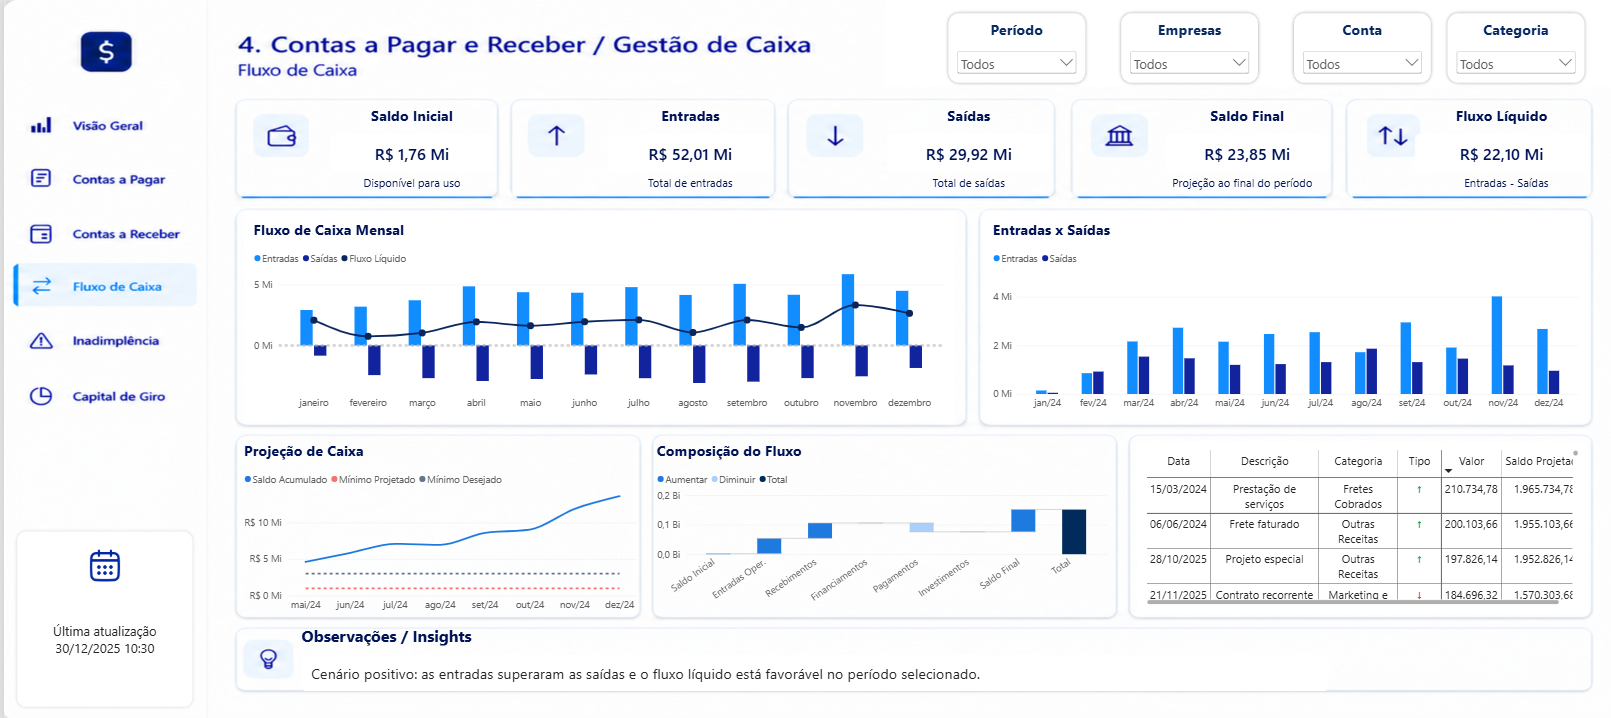

Layout of this report page (visuals, bound fields, positions):
{"tool":"powerbi","page":{"name":"Fluxo de Caixa","canvas":[2700,1200],"ordinal":3},"visuals":[{"type":"actionButton","box":[16,624,240,64],"z":0},{"type":"actionButton","box":[16,528,240,64],"z":1000},{"type":"actionButton","box":[16,352,240,64],"z":2000},{"type":"actionButton","box":[16,256,240,64],"z":3000},{"type":"actionButton","box":[16,160,240,64],"z":4000},{"type":"shape","box":[1468,0,1232,144],"z":5000},{"type":"shape","box":[1568,16,240,128],"z":6000},{"type":"shape","box":[1856,16,240,128],"z":7000},{"type":"shape","box":[2144,16,240,128],"z":8000},{"type":"shape","box":[2400,16,240,128],"z":9000},{"type":"textbox","box":[1616,32,144,48],"z":10000},{"type":"textbox","box":[2192,32,144,48],"z":11000},{"type":"textbox","box":[1904,32,144,48],"z":12000},{"type":"textbox","box":[2416,32,208,48],"z":13000},{"type":"slicer","fields":{"Values":["dCalendario.Mes_Ano_Eixo"]},"box":[1584,80,208,48],"z":14000},{"type":"slicer","fields":{"Values":["dEmpresas.Empresa"]},"box":[1872,80,208,48],"z":15000},{"type":"slicer","fields":{"Values":["dContasBancarias.Conta"]},"box":[2160,80,208,48],"z":16000},{"type":"slicer","fields":{"Values":["dCategorias.Categoria"]},"box":[2416,80,208,48],"z":17000},{"type":"cardVisual","title":"Saldo Inicial","fields":{"Data":["Medidas Fluxo de Caixa.Texto FC Saldo Inicial"]},"box":[544,176,272,112],"z":18000},{"type":"cardVisual","title":"Entradas","fields":{"Data":["Medidas Fluxo de Caixa.Texto FC Entradas"]},"box":[1008,176,272,112],"z":19000},{"type":"cardVisual","title":"Saídas","fields":{"Data":["Medidas Fluxo de Caixa.Texto FC Saídas"]},"box":[1472,176,272,112],"z":20000},{"type":"cardVisual","title":"Saldo Final","fields":{"Data":["Medidas Fluxo de Caixa.Texto FC Saldo Final"]},"box":[1936,176,272,112],"z":21000},{"type":"cardVisual","title":"Fluxo Líquido","fields":{"Data":["Medidas Fluxo de Caixa.Texto FC Fluxo Líquido"]},"box":[2352,176,288,112],"z":22000},{"type":"cardVisual","fields":{"Data":["Medidas Fluxo de Caixa.Subtexto FC Saldo Inicial"]},"box":[544,272,272,64],"z":23000},{"type":"cardVisual","fields":{"Data":["Medidas Fluxo de Caixa.Subtexto FC Entradas"]},"box":[1008,272,272,64],"z":24000},{"type":"cardVisual","fields":{"Data":["Medidas Fluxo de Caixa.Subtexto FC Saídas"]},"box":[1472,272,272,64],"z":25000},{"type":"cardVisual","fields":{"Data":["Medidas Fluxo de Caixa.Subtexto FC Saldo Final"]},"box":[1920,272,288,64],"z":26000},{"type":"cardVisual","fields":{"Data":["Medidas Fluxo de Caixa.Subtexto FC Fluxo Líquido"]},"box":[2368,272,272,64],"z":27000},{"type":"lineClusteredColumnComboChart","title":"Fluxo de Caixa Mensal","fields":{"Category":["dCalendario.Data.Variation.Hierarquia de datas.Mês"],"Y":["Medidas Fluxo de Caixa.FC Entradas Gráfico","Medidas Fluxo de Caixa.FC Saídas Gráfico"],"Y2":["Medidas Fluxo de Caixa.FC Fluxo Líquido Gráfico"]},"box":[400,352,1184,352],"z":28000},{"type":"clusteredColumnChart","title":"Entradas x Saídas","fields":{"Category":["dCalendario.Mes_Ano_Eixo"],"Y":["Medidas Fluxo de Caixa.FC Entradas x Saídas - Entradas","Medidas Fluxo de Caixa.FC Entradas x Saídas - Saídas"]},"box":[1632,352,1008,352],"z":29000},{"type":"shape","box":[16,880,304,304],"z":30000},{"type":"lineChart","title":"Projeção de Caixa","fields":{"Y":["Medidas Fluxo de Caixa.FC Projeção Saldo Acumulado","Medidas Fluxo de Caixa.FC Linha Mínimo Operacional","Medidas Fluxo de Caixa.FC Linha Mínimo Desejado"],"Category":["dCalendario.Mes_Ano_Eixo"]},"box":[384,720,688,320],"z":31000},{"type":"waterfallChart","title":"Composição do Fluxo","fields":{"Y":["Medidas Fluxo de Caixa.FC Composição do Fluxo"],"Category":["dComposicaoFluxo.Item"]},"box":[1072,720,784,320],"z":32000},{"type":"tableEx","fields":{"Values":["fMovimentosCaixa.Data_Movimento","fMovimentosCaixa.Descricao","dCategorias.Categoria","Medidas Fluxo de Caixa.FC Tipo Evento","Medidas Fluxo de Caixa.FC Valor Evento","Medidas Fluxo de Caixa.FC Saldo Projetado Evento"]},"box":[1888,736,752,288],"z":33000},{"type":"cardVisual","title":"Observações / Insights","fields":{"Data":["Medidas Fluxo de Caixa.Insight Fluxo de Caixa"]},"box":[496,1040,1712,112],"z":34000},{"type":"cardVisual","fields":{"Data":["Medidas Fluxo de Caixa.Texto FC Última Atualização"]},"box":[32,976,272,176],"z":35000},{"type":"image","box":[112,912,112,64],"z":36000}]}

Visuals, with their boxes on the page's 2700x1200 design canvas (x1, y1, x2, y2). These are canvas units, not pixel positions in the 1611x718 screenshot, which may show the page scaled, cropped or inside an application window:
actionButton: <bbox>16, 624, 256, 688</bbox>
actionButton: <bbox>16, 528, 256, 592</bbox>
actionButton: <bbox>16, 352, 256, 416</bbox>
actionButton: <bbox>16, 256, 256, 320</bbox>
actionButton: <bbox>16, 160, 256, 224</bbox>
shape: <bbox>1468, 0, 2700, 144</bbox>
shape: <bbox>1568, 16, 1808, 144</bbox>
shape: <bbox>1856, 16, 2096, 144</bbox>
shape: <bbox>2144, 16, 2384, 144</bbox>
shape: <bbox>2400, 16, 2640, 144</bbox>
textbox: <bbox>1616, 32, 1760, 80</bbox>
textbox: <bbox>2192, 32, 2336, 80</bbox>
textbox: <bbox>1904, 32, 2048, 80</bbox>
textbox: <bbox>2416, 32, 2624, 80</bbox>
slicer - dCalendario.Mes_Ano_Eixo: <bbox>1584, 80, 1792, 128</bbox>
slicer - dEmpresas.Empresa: <bbox>1872, 80, 2080, 128</bbox>
slicer - dContasBancarias.Conta: <bbox>2160, 80, 2368, 128</bbox>
slicer - dCategorias.Categoria: <bbox>2416, 80, 2624, 128</bbox>
"Saldo Inicial" cardVisual: <bbox>544, 176, 816, 288</bbox>
"Entradas" cardVisual: <bbox>1008, 176, 1280, 288</bbox>
"Saídas" cardVisual: <bbox>1472, 176, 1744, 288</bbox>
"Saldo Final" cardVisual: <bbox>1936, 176, 2208, 288</bbox>
"Fluxo Líquido" cardVisual: <bbox>2352, 176, 2640, 288</bbox>
cardVisual - Medidas Fluxo de Caixa.Subtexto FC Saldo Inicial: <bbox>544, 272, 816, 336</bbox>
cardVisual - Medidas Fluxo de Caixa.Subtexto FC Entradas: <bbox>1008, 272, 1280, 336</bbox>
cardVisual - Medidas Fluxo de Caixa.Subtexto FC Saídas: <bbox>1472, 272, 1744, 336</bbox>
cardVisual - Medidas Fluxo de Caixa.Subtexto FC Saldo Final: <bbox>1920, 272, 2208, 336</bbox>
cardVisual - Medidas Fluxo de Caixa.Subtexto FC Fluxo Líquido: <bbox>2368, 272, 2640, 336</bbox>
"Fluxo de Caixa Mensal" lineClusteredColumnComboChart: <bbox>400, 352, 1584, 704</bbox>
"Entradas x Saídas" clusteredColumnChart: <bbox>1632, 352, 2640, 704</bbox>
shape: <bbox>16, 880, 320, 1184</bbox>
"Projeção de Caixa" lineChart: <bbox>384, 720, 1072, 1040</bbox>
"Composição do Fluxo" waterfallChart: <bbox>1072, 720, 1856, 1040</bbox>
tableEx - fMovimentosCaixa.Data_Movimento x fMovimentosCaixa.Descricao: <bbox>1888, 736, 2640, 1024</bbox>
"Observações / Insights" cardVisual: <bbox>496, 1040, 2208, 1152</bbox>
cardVisual - Medidas Fluxo de Caixa.Texto FC Última Atualização: <bbox>32, 976, 304, 1152</bbox>
image: <bbox>112, 912, 224, 976</bbox>
